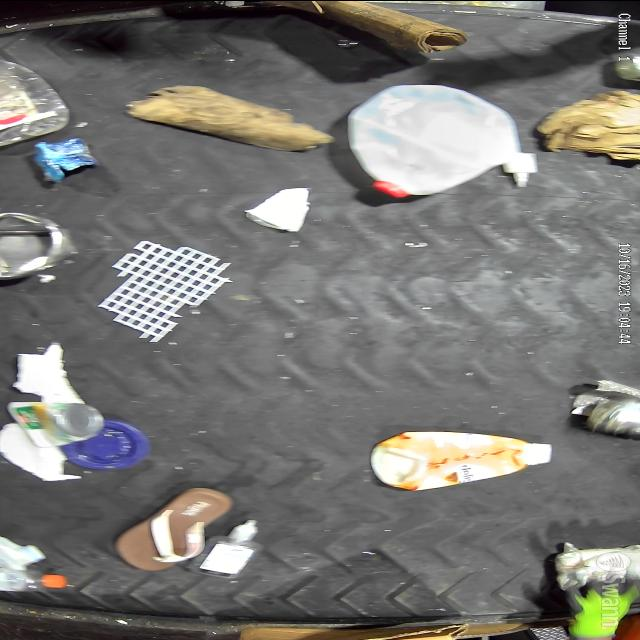can: (0, 209, 80, 280), (6, 400, 108, 448)
milk_jug: (342, 83, 520, 199), (0, 535, 48, 568)
non_white_jug: (368, 428, 556, 492)
plastic_bottle: (0, 58, 73, 148), (0, 567, 69, 591)
